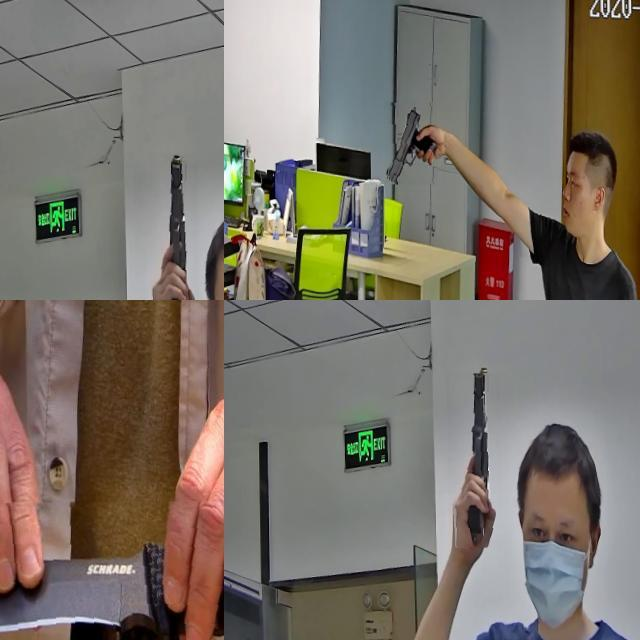-: (0, 484, 224, 640)
gun-knife-thesis - v11 Yolov5 augmented: (446, 370, 500, 546), (148, 150, 198, 300), (383, 98, 438, 184)
